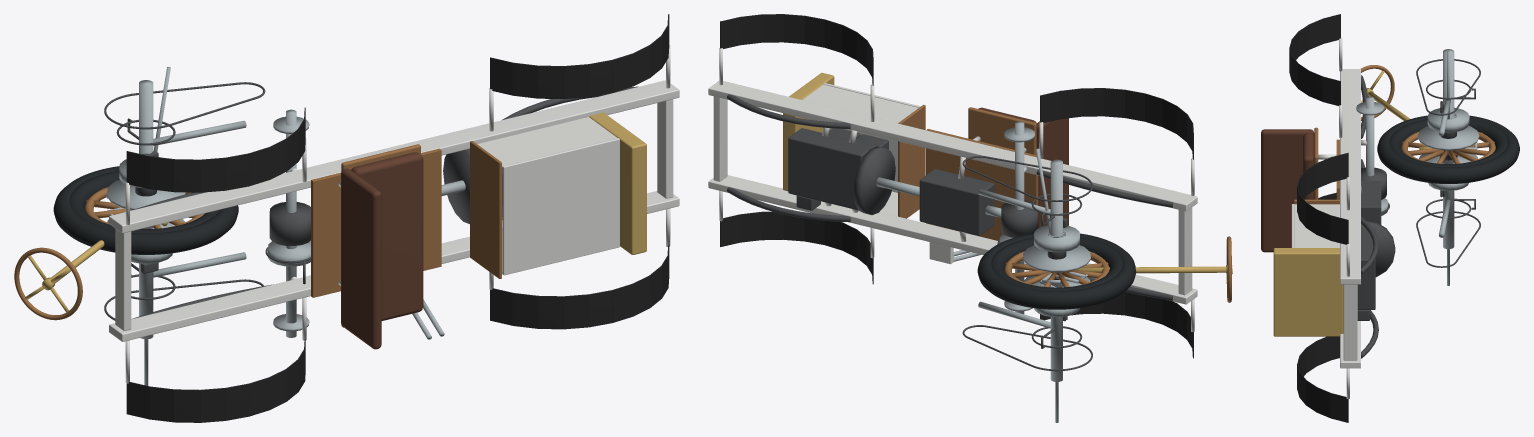
File: car.glb
The picture shows the model from 3 angles, left to right: view 1: azimuth 30°, elevation 25°; view 2: azimuth 150°, elevation 25°; view 3: azimuth 270°, elevation 25°; orthographic projection. The views are drawn at different scales.
Visible parts, largest first — view 1: chassis|154, chassis|1, chassis|150, chassis|151, chassis|144, chassis|0, rear_left|48, chassis|143, chassis|115, chassis|153, rear_axle|38, chassis|2 (+39 smaller); view 2: chassis|1, chassis|0, chassis|108, rear_left|48, chassis|118, chassis|144, chassis|116, chassis|153, chassis|143, front_left|63, chassis|151, rear_axle|38 (+35 smaller); view 3: chassis|115, chassis|151, chassis|1, rear_left|48, front_left|63, chassis|3, chassis|108, rear_axle|38, chassis|153, rear_right|128, chassis|118, chassis|116 (+30 smaller).
Boxes of the visible parts, x1,y1,x2,y2 form: chassis|154: (502, 138, 619, 275); chassis|1: (109, 80, 679, 233); chassis|150: (351, 152, 423, 320); chassis|151: (341, 168, 381, 349); chassis|144: (311, 148, 441, 297); chassis|0: (109, 191, 679, 341); rear_left|48: (53, 166, 238, 254); chassis|143: (470, 141, 501, 278); chassis|115: (589, 112, 646, 254); chassis|153: (477, 117, 616, 167); rear_axle|38: (139, 80, 153, 339); chassis|2: (115, 228, 131, 330); chassis|1: (708, 81, 1197, 211); chassis|0: (708, 175, 1197, 304); chassis|108: (788, 128, 874, 210); rear_left|48: (977, 233, 1136, 309); chassis|118: (919, 169, 994, 235); chassis|144: (926, 129, 1038, 240); chassis|116: (853, 146, 895, 214); chassis|153: (802, 84, 918, 123); chassis|143: (898, 104, 925, 218); front_left|63: (991, 237, 1122, 291); chassis|151: (1036, 118, 1068, 228); rear_axle|38: (1050, 159, 1062, 381); chassis|115: (1273, 248, 1343, 336); chassis|151: (1261, 129, 1314, 252); chassis|1: (1340, 69, 1360, 284); rear_left|48: (1377, 115, 1519, 183); front_left|63: (1389, 119, 1507, 167); chassis|3: (1343, 284, 1357, 360); chassis|108: (1357, 228, 1375, 309); rear_axle|38: (1443, 49, 1454, 249); chassis|153: (1294, 204, 1339, 247); rear_right|128: (1417, 126, 1479, 150); chassis|118: (1361, 181, 1381, 224); chassis|116: (1361, 220, 1395, 277).
Size of the model in its own units: 4.02 by 1.91 by 1.85.
